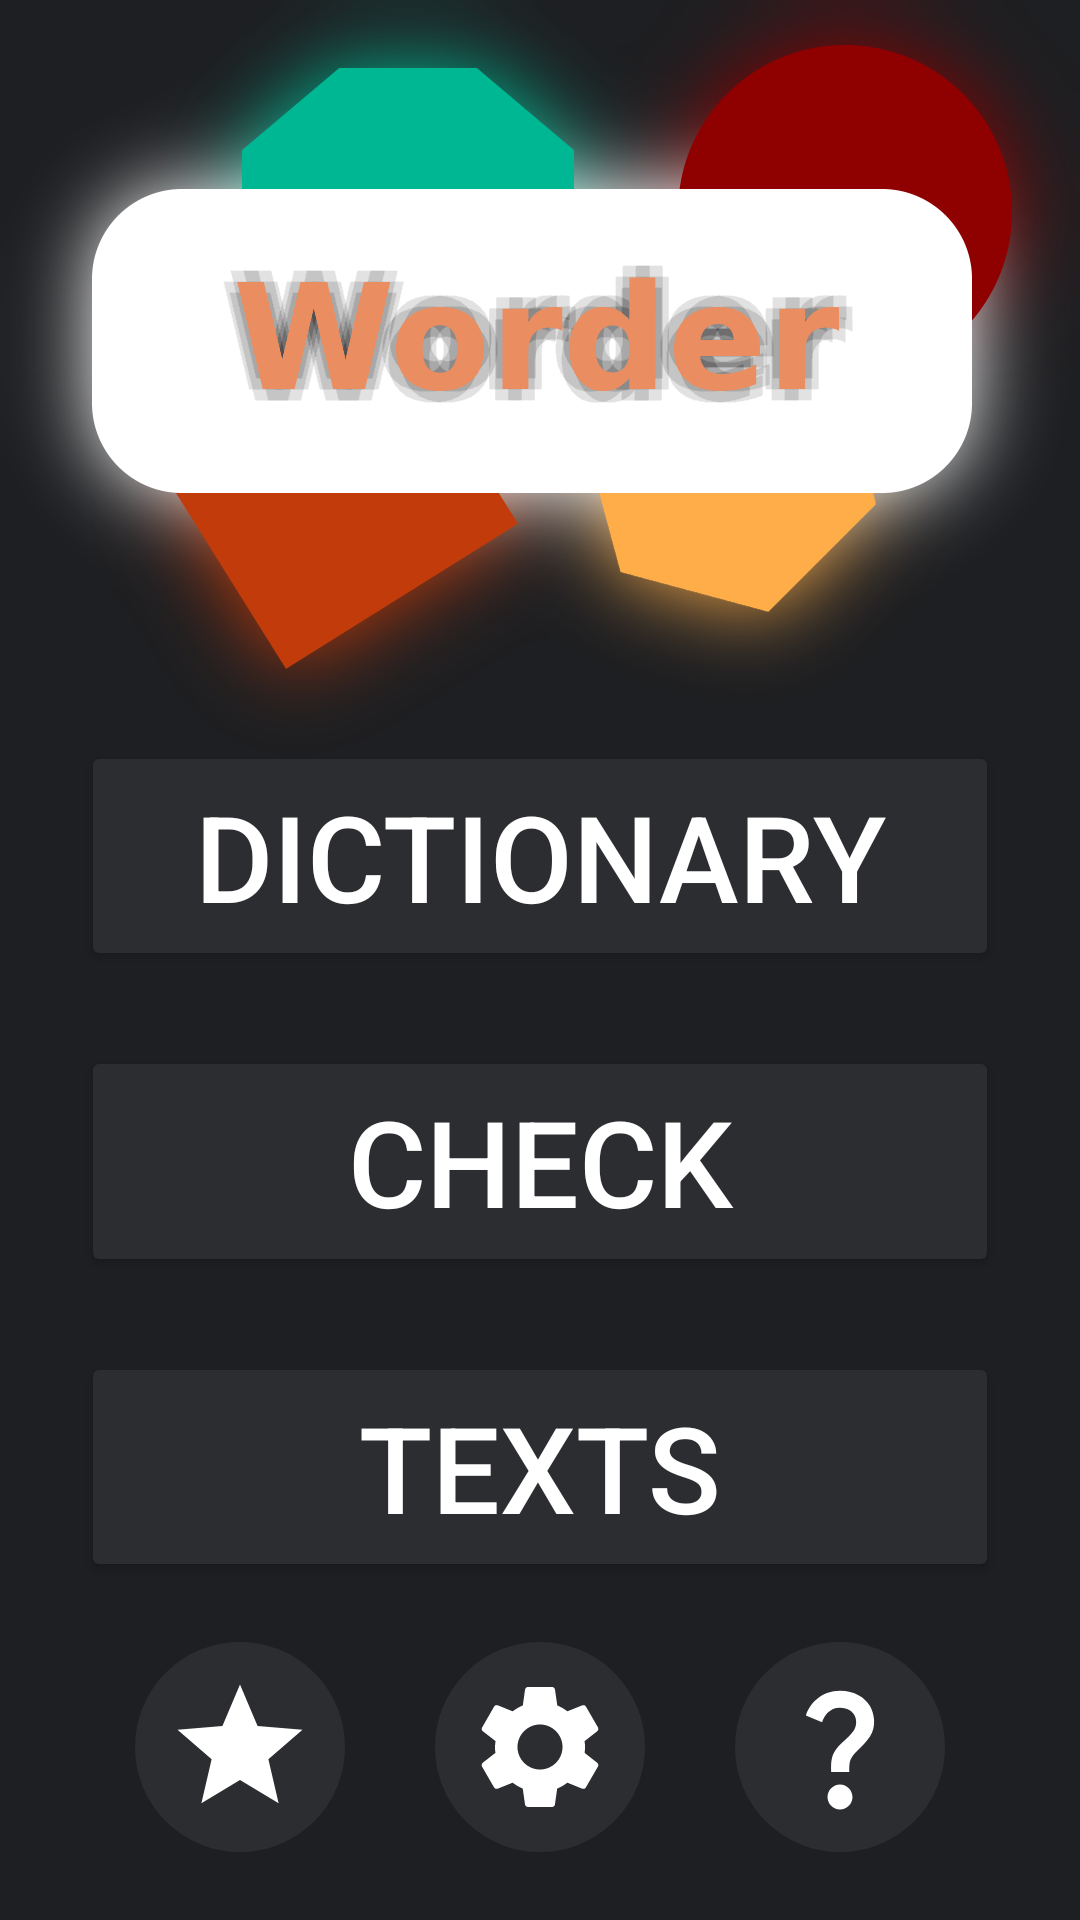

Screen size 1080 × 1920. Icon name, then its center in pixels as [x,y]:
question: [840,1747]
settings: [540,1747]
star: [240,1747]
